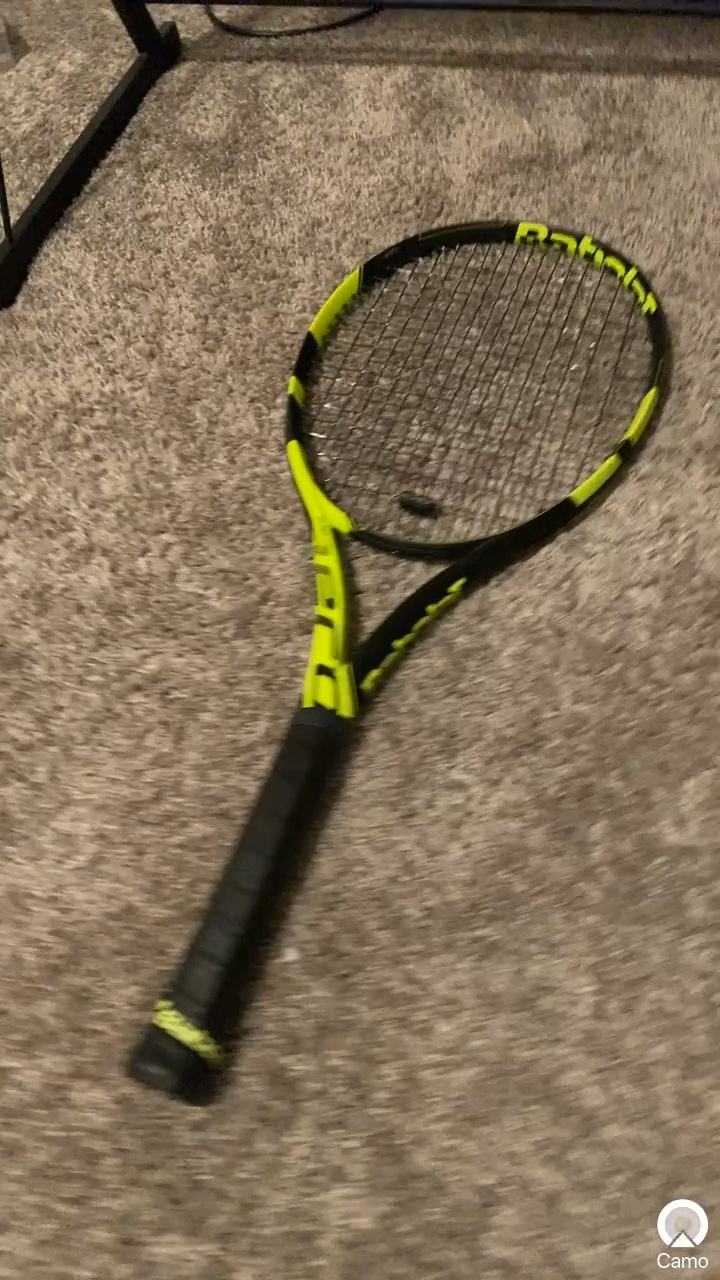Tennis_Racquet: (104, 206, 720, 1120)
